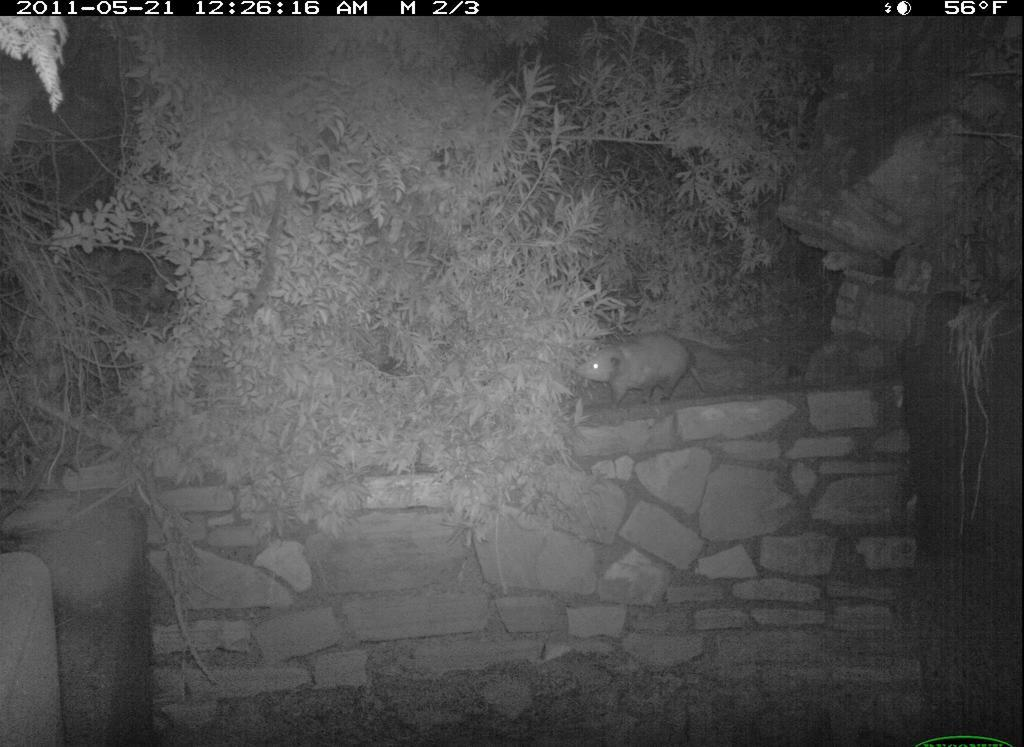opossum: (571, 327, 721, 420)
